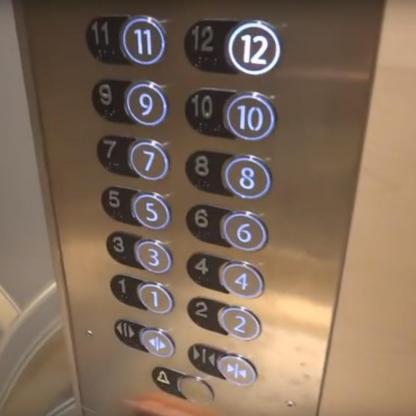1: (108, 270, 144, 312), (136, 281, 173, 314)
10: (221, 90, 276, 141), (188, 88, 217, 136)
11: (116, 14, 166, 64), (84, 14, 126, 65)
12: (226, 20, 281, 76), (182, 19, 230, 76)
2: (184, 293, 226, 336), (217, 304, 260, 341)
3: (105, 229, 141, 270), (132, 239, 172, 273)
4: (184, 249, 226, 293), (218, 260, 264, 298)
5: (98, 183, 136, 229), (130, 190, 170, 230)
6: (219, 210, 268, 252), (185, 200, 226, 247)
7: (127, 138, 170, 181), (97, 135, 135, 181)
8: (221, 153, 271, 198), (184, 147, 226, 198)
9: (122, 78, 168, 127), (88, 77, 131, 126)
alarm: (150, 363, 214, 408)
close: (185, 338, 223, 381), (218, 352, 258, 386)
open: (138, 326, 175, 358), (113, 316, 144, 354)
